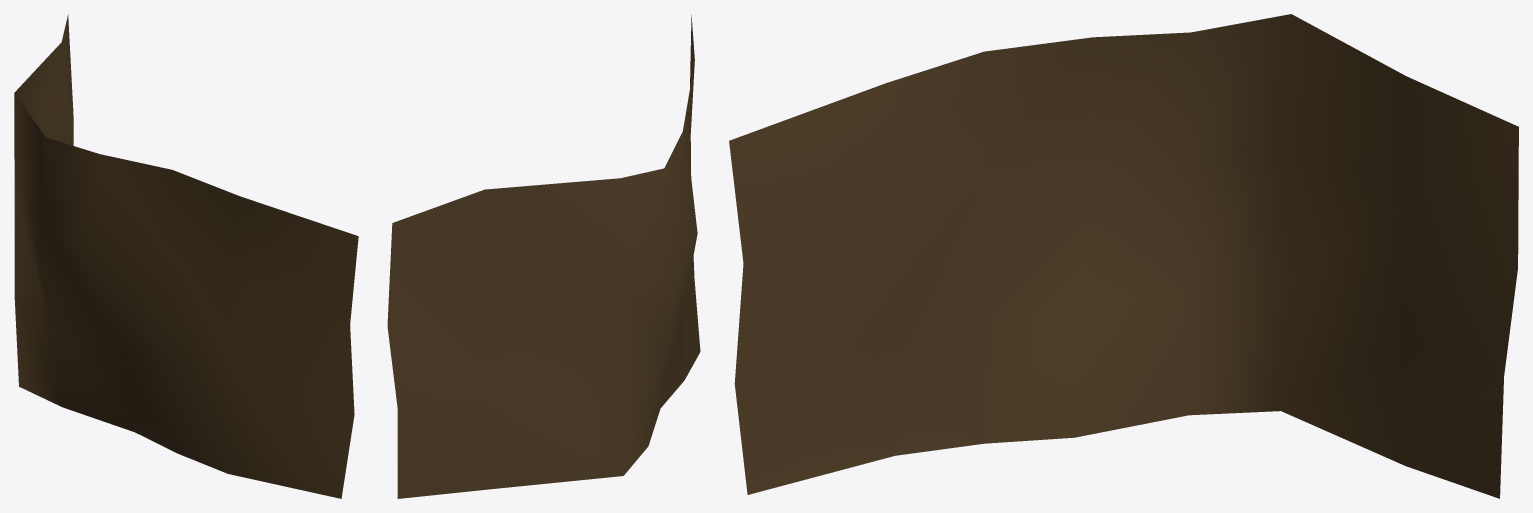
The model's file is SWORDLIGHT20_PS-AREA03_98.fbx.
The picture shows the model from 3 angles, left to right: view 1: azimuth 30°, elevation 25°; view 2: azimuth 150°, elevation 25°; view 3: azimuth 270°, elevation 25°; orthographic projection. The views are drawn at different scales.
Parts seen in each view (by area): view 1: SWORDLIGHT20_PS-AREA03_98; view 2: SWORDLIGHT20_PS-AREA03_98; view 3: SWORDLIGHT20_PS-AREA03_98.
Boxes of the visible parts, <box> form: SWORDLIGHT20_PS-AREA03_98: <box>14,14,358,498</box>; SWORDLIGHT20_PS-AREA03_98: <box>387,15,700,498</box>; SWORDLIGHT20_PS-AREA03_98: <box>729,14,1518,498</box>.
Size of the model in its own units: 88168 by 153625 by 277344.
Materials: 1 (1 with a texture image).
